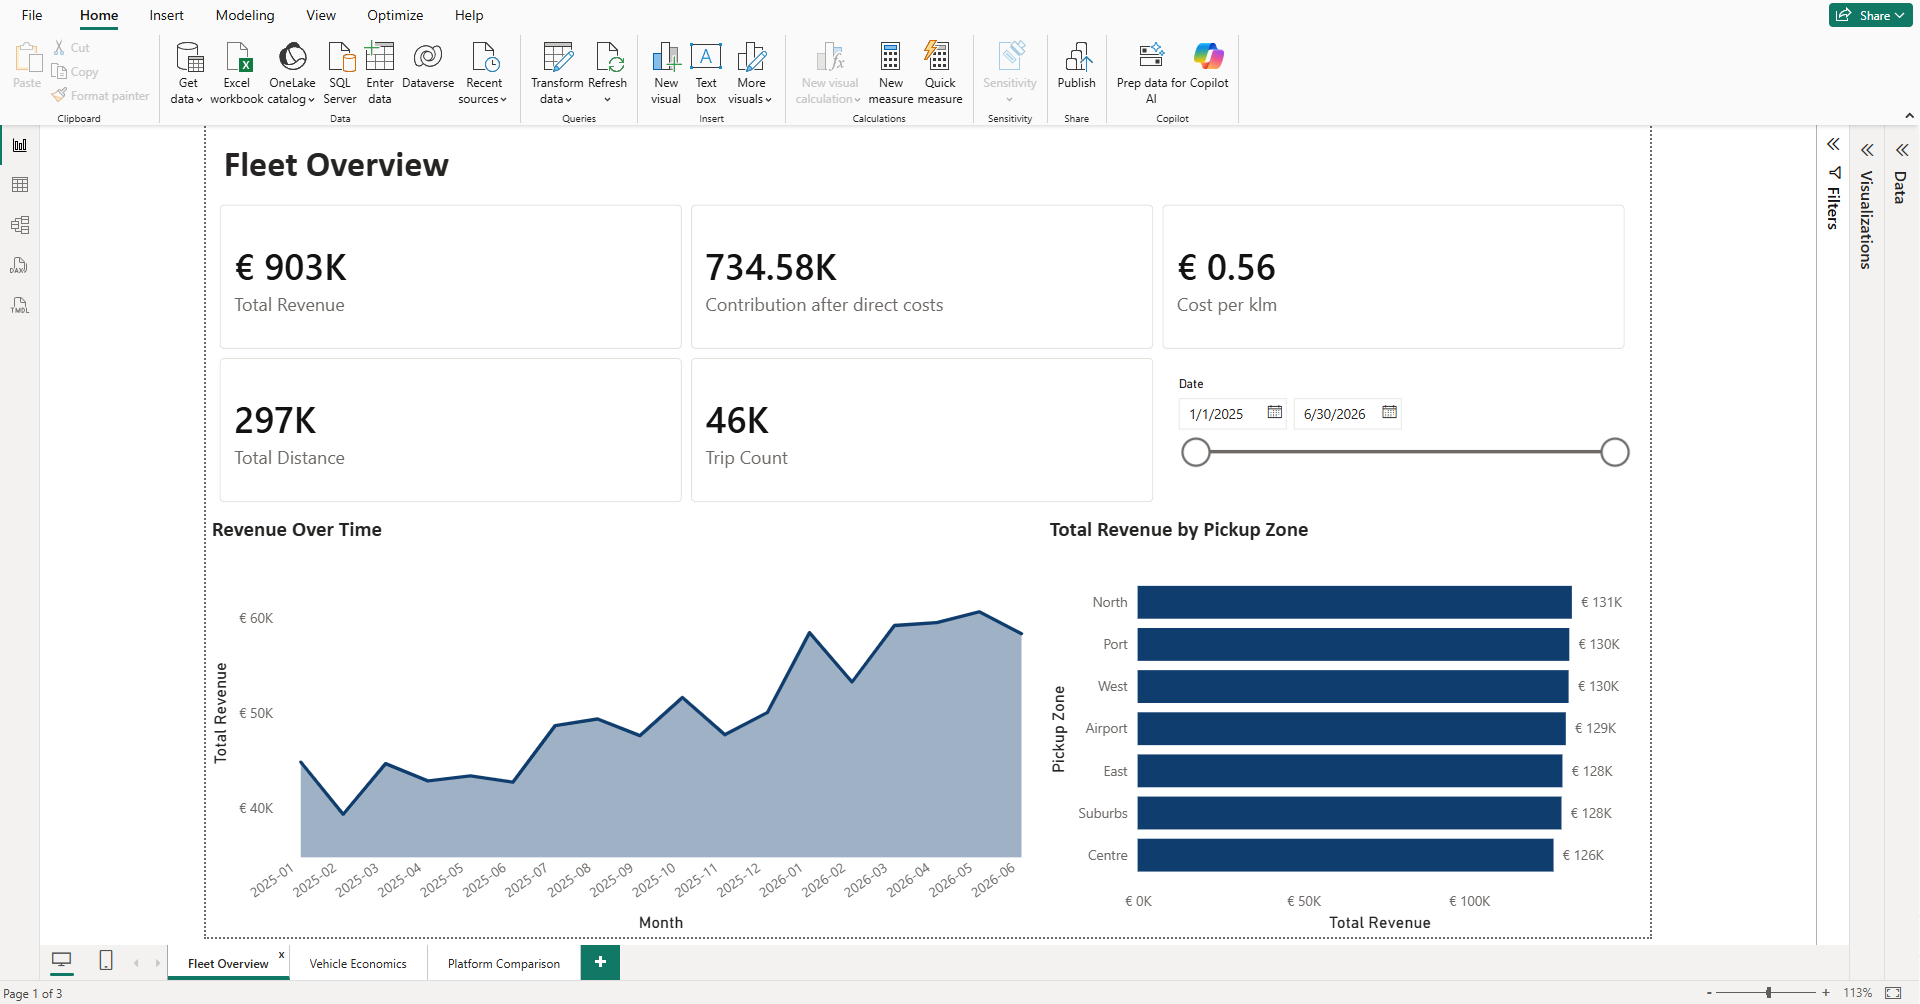

Layout of this report page (visuals, bound fields, positions):
{"tool":"powerbi","page":{"name":"Fleet Overview","canvas":[1280,720],"ordinal":0},"visuals":[{"type":"textbox","box":[10.3,10.3,1269.7,58.8],"z":0},{"type":"cardVisual","fields":{"Data":["_Measures.Total Revenue","_Measures.Contribution after direct costs","_Measures.Cost per klm","_Measures.Total Distance","_Measures.Trip Count"]},"box":[0,58.6,1270.8,288.7],"z":1000},{"type":"lineChart","title":"Revenue Over Time","fields":{"Y":["_Measures.Total Revenue"],"Category":["Date Table.YearMonth"]},"box":[0,346.8,743.2,373.7],"z":2000},{"type":"clusteredBarChart","title":"Total Revenue by Pickup Zone","fields":{"Category":["Trips.pickup_zone"],"Y":["_Measures.Total Revenue"]},"box":[743,347,537,373],"z":3000},{"type":"slicer","fields":{"Values":["Date Table.Date"]},"box":[849.6,217.8,421.2,108.9],"z":3001}]}

Visuals, with their boxes on the page's 1280x720 design canvas (x1, y1, x2, y2). These are canvas units, not pixel positions in the 1920x1004 screenshot, which may show the page scaled, cropped or inside an application window:
textbox: (10,10,1280,69)
cardVisual - _Measures.Total Revenue x _Measures.Contribution after direct costs: (0,59,1271,347)
"Revenue Over Time" lineChart: (0,347,743,720)
"Total Revenue by Pickup Zone" clusteredBarChart: (743,347,1280,720)
slicer - Date Table.Date: (850,218,1271,327)
